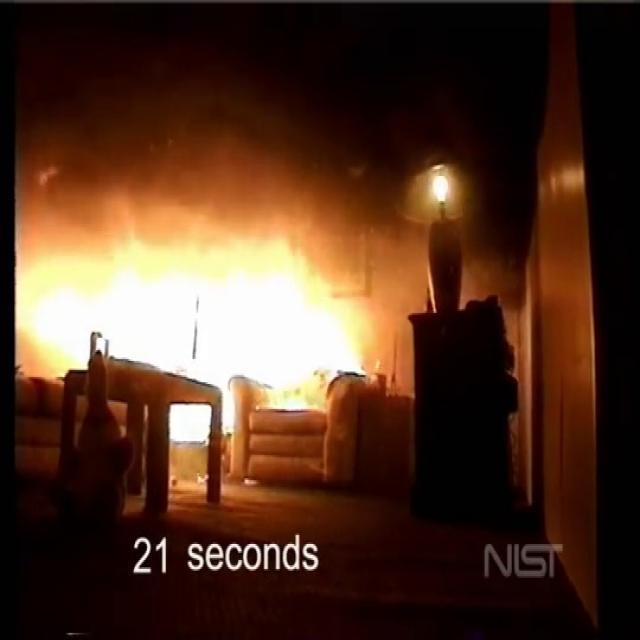Fire: (16, 212, 387, 418)
Smoke: (14, 27, 397, 256)
